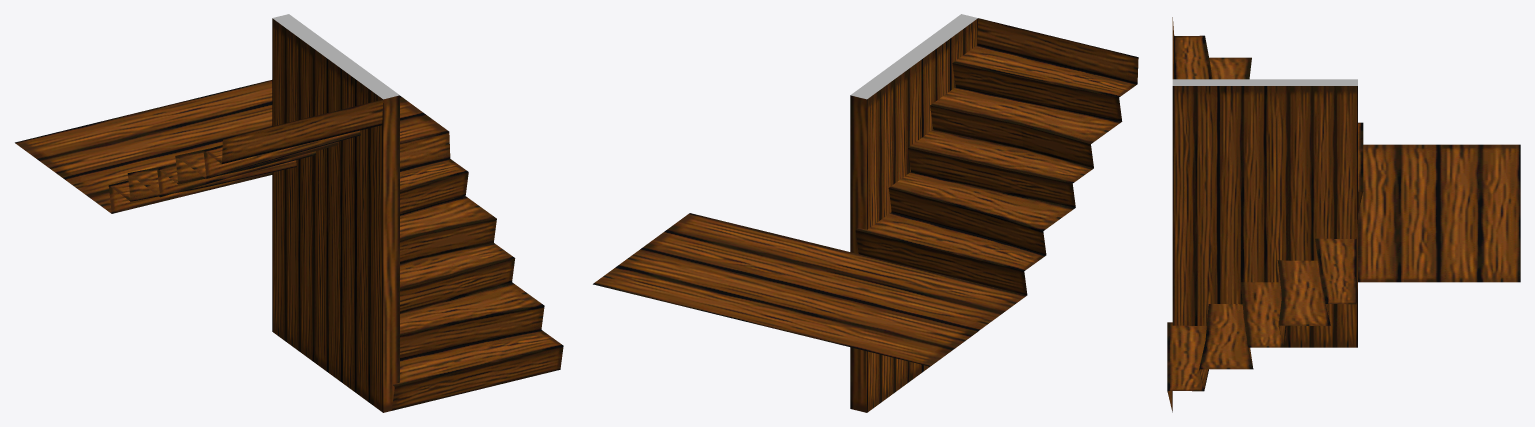
Rendered from TreppeMitTrennwandGedrehtSchmal_1614.glb.
The picture shows the model from 3 angles, left to right: view 1: azimuth 30°, elevation 25°; view 2: azimuth 150°, elevation 25°; view 3: azimuth 270°, elevation 25°; orthographic projection. The views are drawn at different scales.
Parts seen in each view (by area): view 1: pPlaneShape26, pPlaneShape24, pPlaneShape1, pPlaneShape19, pPlaneShape28, pPlaneShape18; view 2: pPlaneShape19, pPlaneShape1, pPlaneShape26, pPlaneShape27, pPlaneShape18; view 3: pPlaneShape25, pPlaneShape1, pPlaneShape24, pPlaneShape19, pPlaneShape18.
Boxes of the visible parts, bbox=[...] form: pPlaneShape26: bbox=[272, 18, 383, 412]; pPlaneShape24: bbox=[391, 132, 563, 410]; pPlaneShape1: bbox=[15, 80, 448, 213]; pPlaneShape19: bbox=[108, 99, 383, 213]; pPlaneShape28: bbox=[383, 95, 399, 412]; pPlaneShape18: bbox=[272, 14, 399, 99]; pPlaneShape19: bbox=[855, 18, 1138, 294]; pPlaneShape1: bbox=[593, 213, 1026, 366]; pPlaneShape26: bbox=[867, 18, 978, 412]; pPlaneShape27: bbox=[850, 95, 866, 412]; pPlaneShape18: bbox=[850, 14, 977, 99]; pPlaneShape25: bbox=[1172, 86, 1357, 347]; pPlaneShape1: bbox=[1358, 144, 1520, 282]; pPlaneShape24: bbox=[1167, 220, 1357, 412]; pPlaneShape19: bbox=[1172, 17, 1363, 212]; pPlaneShape18: bbox=[1172, 79, 1357, 85].
Bounding box in the file's own units: 0.4385 × 0.3891 × 0.4763.
Materials: 8 (7 with a texture image).
